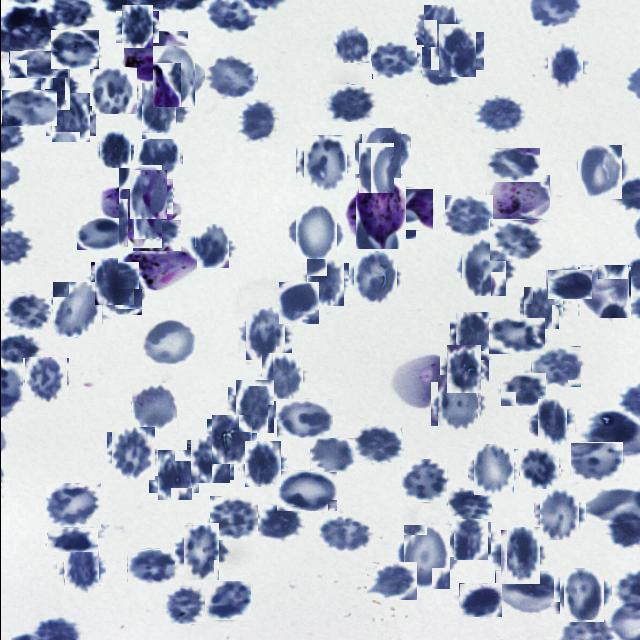difficult: (349, 183, 410, 244), (123, 31, 187, 83)
red blood cell: (399, 529, 454, 585), (494, 570, 559, 614), (50, 283, 103, 336), (140, 317, 198, 365), (298, 139, 351, 191), (457, 242, 509, 294), (147, 50, 199, 102), (578, 266, 629, 318), (433, 379, 484, 429), (290, 208, 340, 258), (355, 129, 405, 179), (574, 147, 624, 197), (203, 54, 257, 100), (46, 483, 101, 528), (276, 470, 336, 511), (350, 254, 399, 302), (560, 571, 608, 619), (129, 384, 177, 432), (496, 532, 544, 580), (108, 430, 156, 478), (275, 398, 332, 438), (488, 219, 542, 261), (241, 310, 288, 358), (317, 514, 372, 555), (89, 67, 136, 114), (136, 86, 182, 134), (569, 442, 622, 482), (134, 132, 180, 178), (231, 383, 277, 429), (536, 492, 582, 538), (178, 529, 224, 575), (208, 416, 254, 462), (209, 496, 257, 540), (470, 447, 516, 492), (434, 28, 479, 74), (383, 188, 432, 230), (530, 346, 580, 387), (473, 95, 525, 134), (258, 355, 304, 399), (444, 195, 492, 237), (488, 318, 544, 354), (1, 90, 56, 126), (23, 357, 67, 401), (48, 95, 92, 139), (188, 438, 232, 482), (92, 260, 136, 304), (401, 459, 446, 502), (352, 425, 402, 463), (366, 562, 416, 600), (354, 146, 397, 190), (325, 84, 374, 122), (126, 174, 170, 216), (370, 39, 416, 79), (51, 30, 98, 69), (2, 292, 50, 330), (100, 272, 143, 314), (153, 454, 195, 497), (486, 148, 539, 182), (206, 581, 252, 620), (304, 262, 346, 304), (60, 548, 102, 590), (452, 316, 494, 358), (238, 100, 278, 144), (442, 348, 484, 389), (242, 443, 283, 485), (544, 45, 585, 86), (278, 282, 318, 324), (8, 50, 67, 78), (126, 549, 174, 583), (418, 8, 458, 48), (192, 226, 232, 266), (519, 448, 559, 488), (499, 372, 545, 406), (421, 47, 461, 86), (309, 438, 354, 472), (521, 288, 560, 327), (252, 506, 299, 538), (447, 488, 491, 522), (132, 220, 180, 251), (166, 587, 206, 624), (76, 218, 122, 250), (458, 584, 501, 618), (35, 68, 73, 106), (532, 403, 570, 441), (332, 26, 370, 64), (118, 8, 156, 46), (451, 520, 488, 558), (546, 269, 592, 299), (46, 527, 97, 552), (98, 133, 132, 167)
trophozoite: (108, 175, 172, 239), (117, 247, 196, 289), (486, 175, 549, 222)
